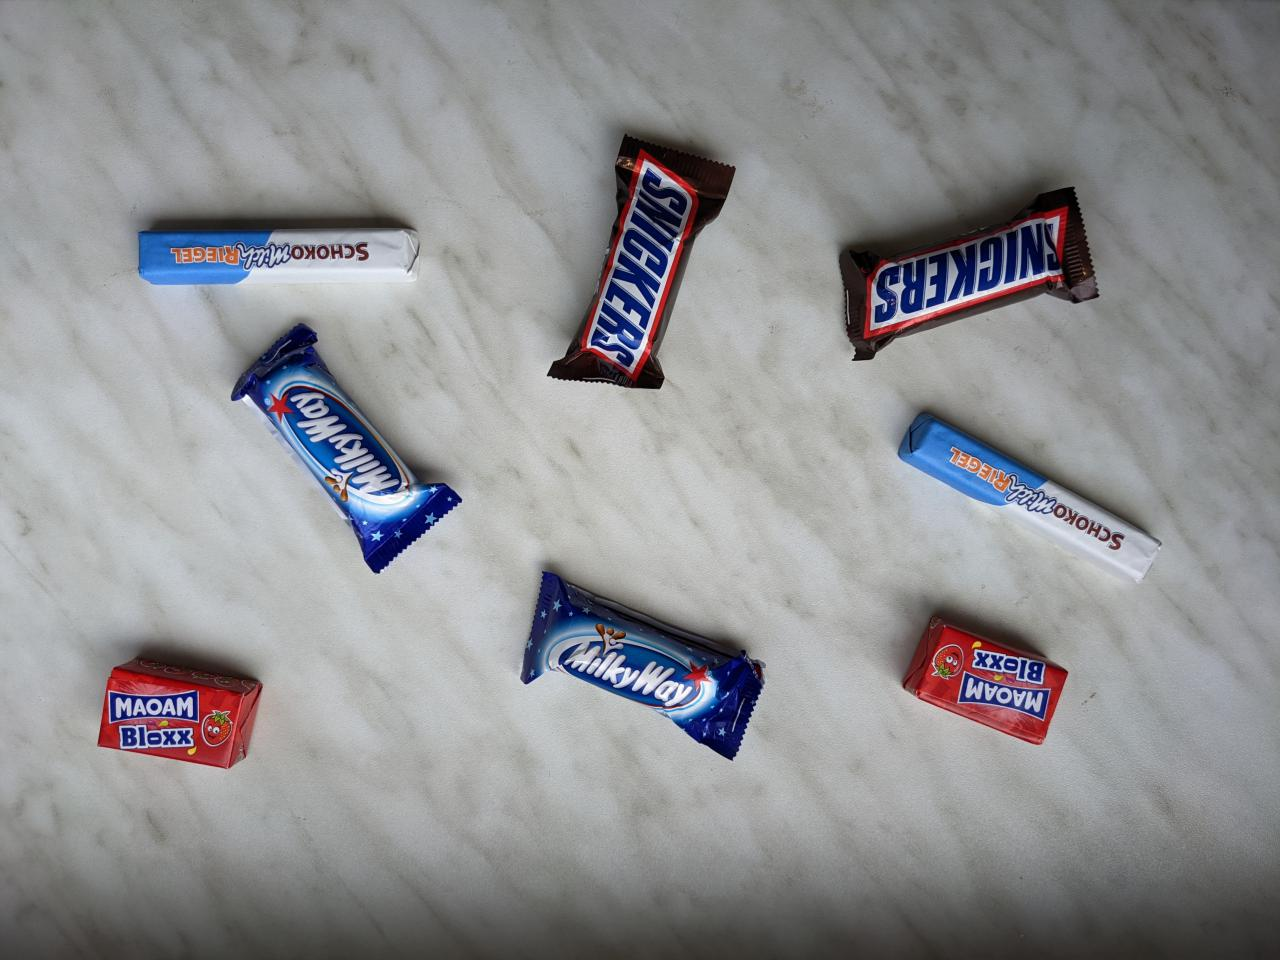MAOAM: (897, 608, 1073, 751), (93, 656, 268, 776)
MilkyWay: (225, 317, 465, 581), (513, 564, 773, 767)
Schokoriegel: (891, 405, 1169, 590), (133, 222, 426, 288)
Snickers: (544, 131, 739, 395), (835, 182, 1106, 369)
